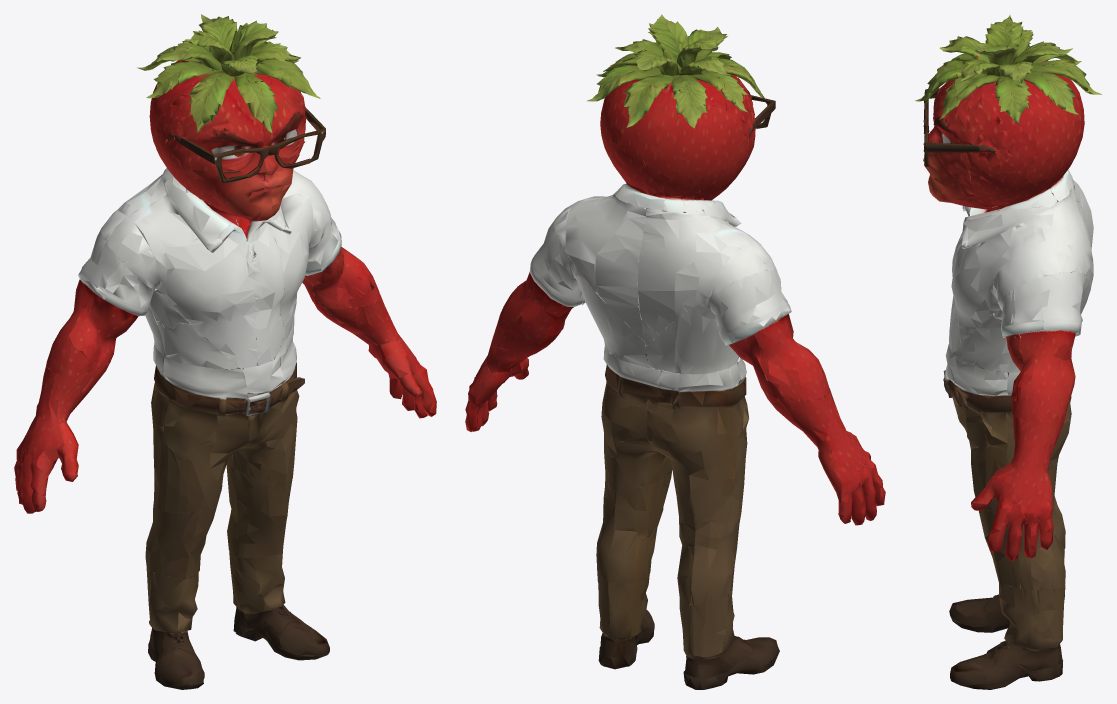
Rendered from StrawberryMan_Mixamo.fbx.
3 views of the same model, side by side, from view 1: azimuth 30°, elevation 25°; view 2: azimuth 150°, elevation 25°; view 3: azimuth 270°, elevation 25° (orthographic).
Parts seen in each view (by area): view 1: tripo_node_073d1700-4334-417b-9446-e4122203205c; view 2: tripo_node_073d1700-4334-417b-9446-e4122203205c; view 3: tripo_node_073d1700-4334-417b-9446-e4122203205c.
Part boxes in pixels (x1,y1,x2,y2): tripo_node_073d1700-4334-417b-9446-e4122203205c: [14, 14, 436, 689]; tripo_node_073d1700-4334-417b-9446-e4122203205c: [465, 14, 885, 689]; tripo_node_073d1700-4334-417b-9446-e4122203205c: [915, 14, 1101, 689].
Bounding box in the file's own units: 119 × 176 × 48.69.
Materials: 1 (1 with a texture image).
